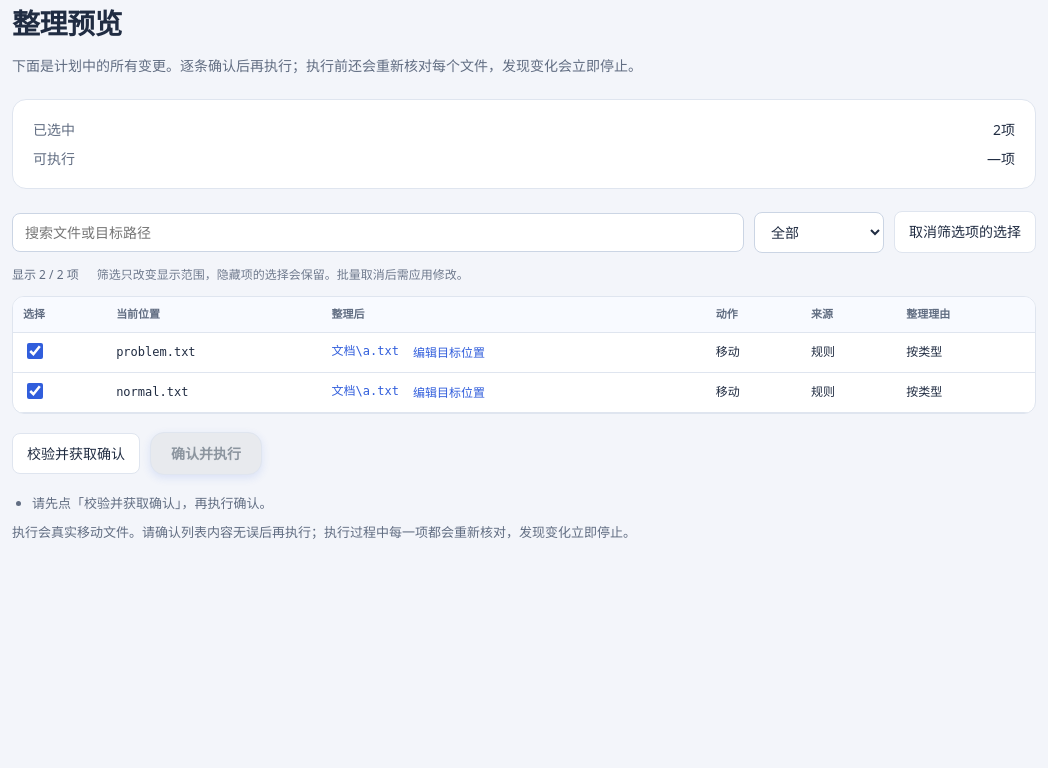
Test: 预览页 UI 接线 › 问题筛选显示校验关联项并保留未显示项的选择
The image size is (1048, 768).
Click the button "校验并获取确认" at point(76, 453), box [12,432,140,474]
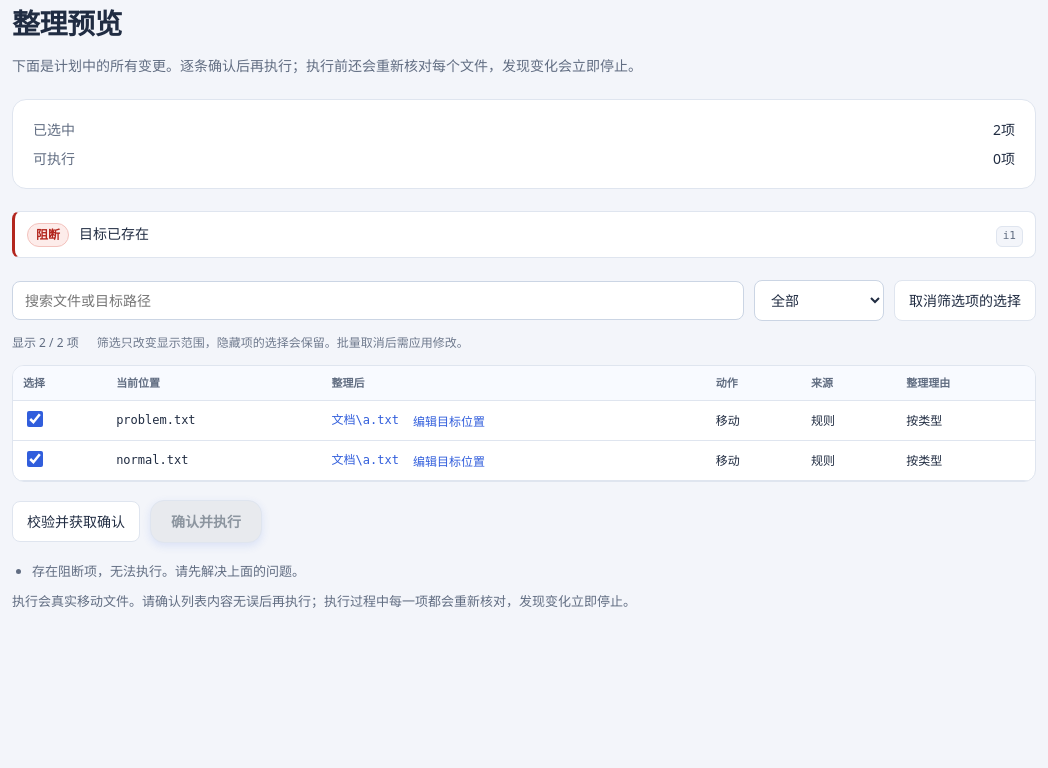
Expected: the text "目标已存在" is shown, [79,224,149,244]
Select "仅看有问题的" in the dropdown named "显示范围" at point(819, 301), box [754,280,884,321]
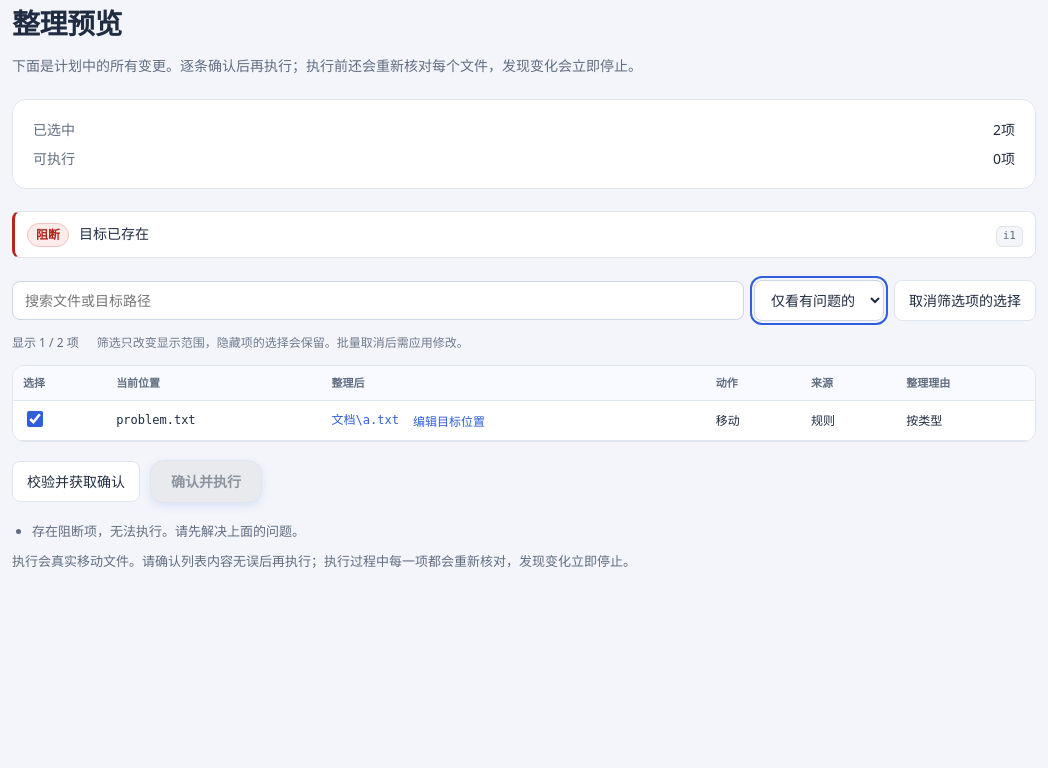
Expected: the checkbox named "problem.txt" is checked, [27,411,43,427]
Expected: the text "normal.txt" is gone
Select "全部" in the dropdown named "显示范围" at point(819, 301), box [754,280,884,321]
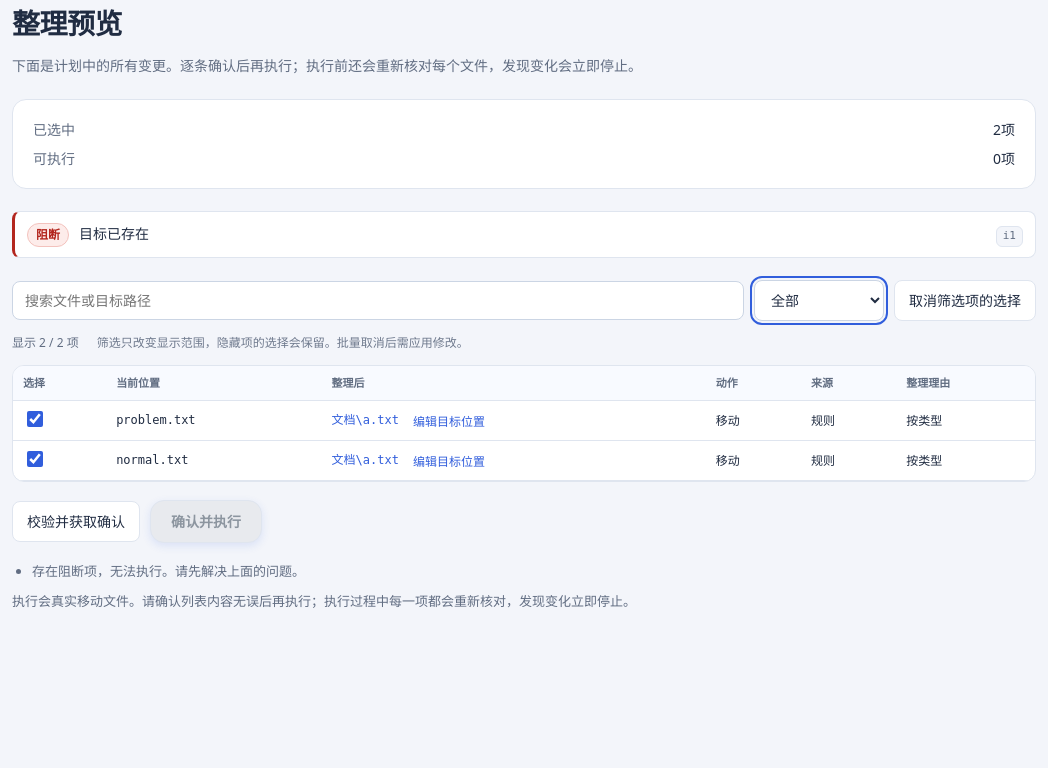
Expected: the checkbox named "normal.txt" is checked, [27,451,43,467]
